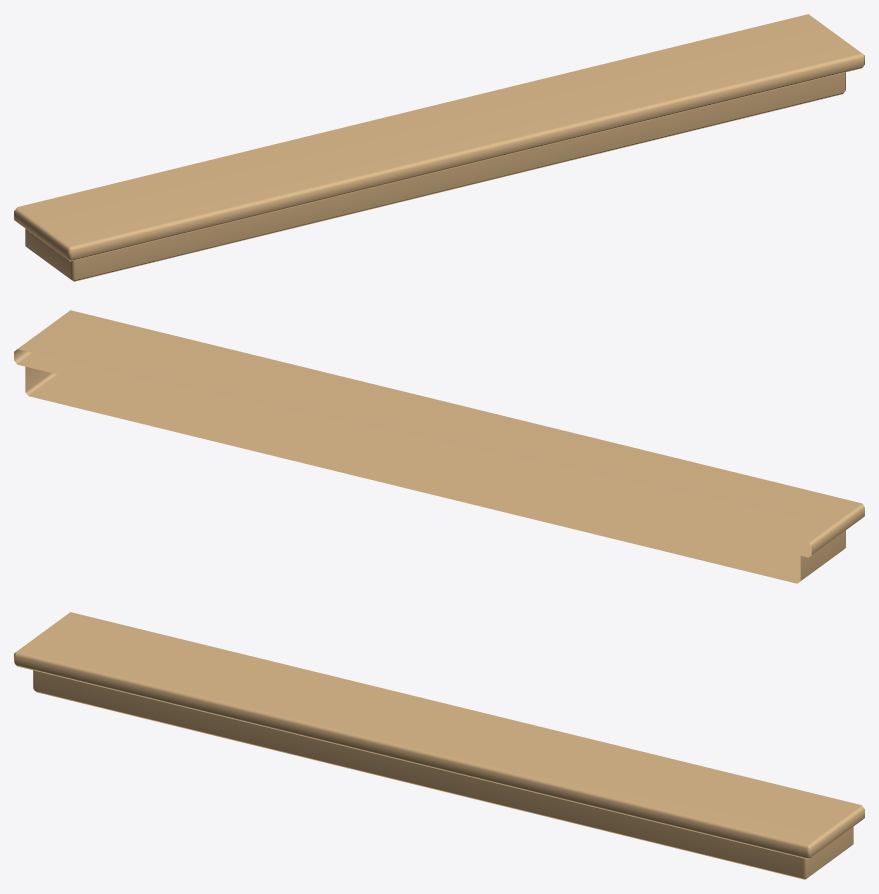
The model's file is DBK_WinBig_Trim_E_Tile.fbx.
3 renders of one model, top to bottom at view 1: azimuth 30°, elevation 25°; view 2: azimuth 150°, elevation 25°; view 3: azimuth 330°, elevation 25°, orthographic.
Parts seen in each view (by area): view 1: DBK_WinBig_Trim_E_Tile; view 2: DBK_WinBig_Trim_E_Tile; view 3: DBK_WinBig_Trim_E_Tile.
Part boxes in pixels (<box>): DBK_WinBig_Trim_E_Tile: <box>14,14,864,281</box>; DBK_WinBig_Trim_E_Tile: <box>14,310,864,583</box>; DBK_WinBig_Trim_E_Tile: <box>14,612,864,879</box>.
Size of the model in its own units: 222 by 11.76 by 26.56.
